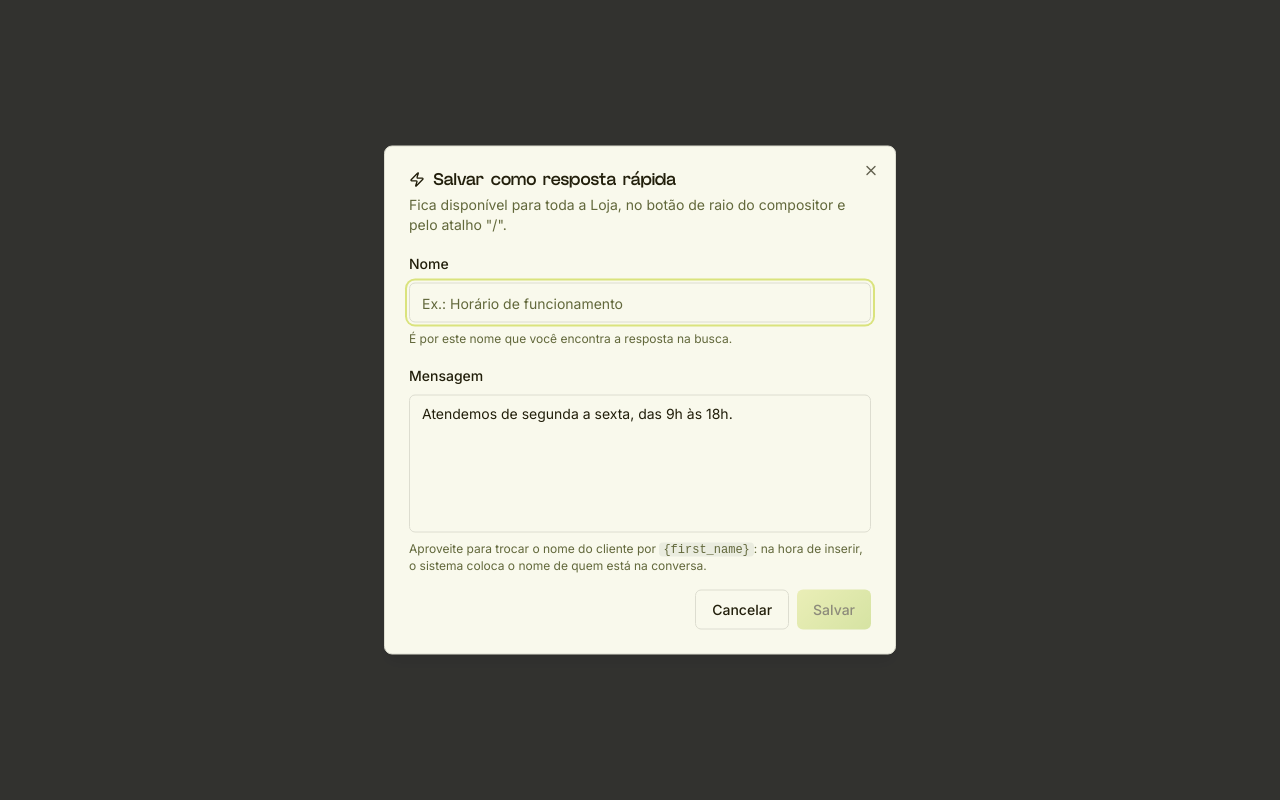
salvar › não salva com o corpo vazio
The width and height of the screenshot is (1280, 800).
Step 1. Type "Horário" into the field labelled "Nome" → (640, 302), box left=409, top=282, right=871, bottom=322
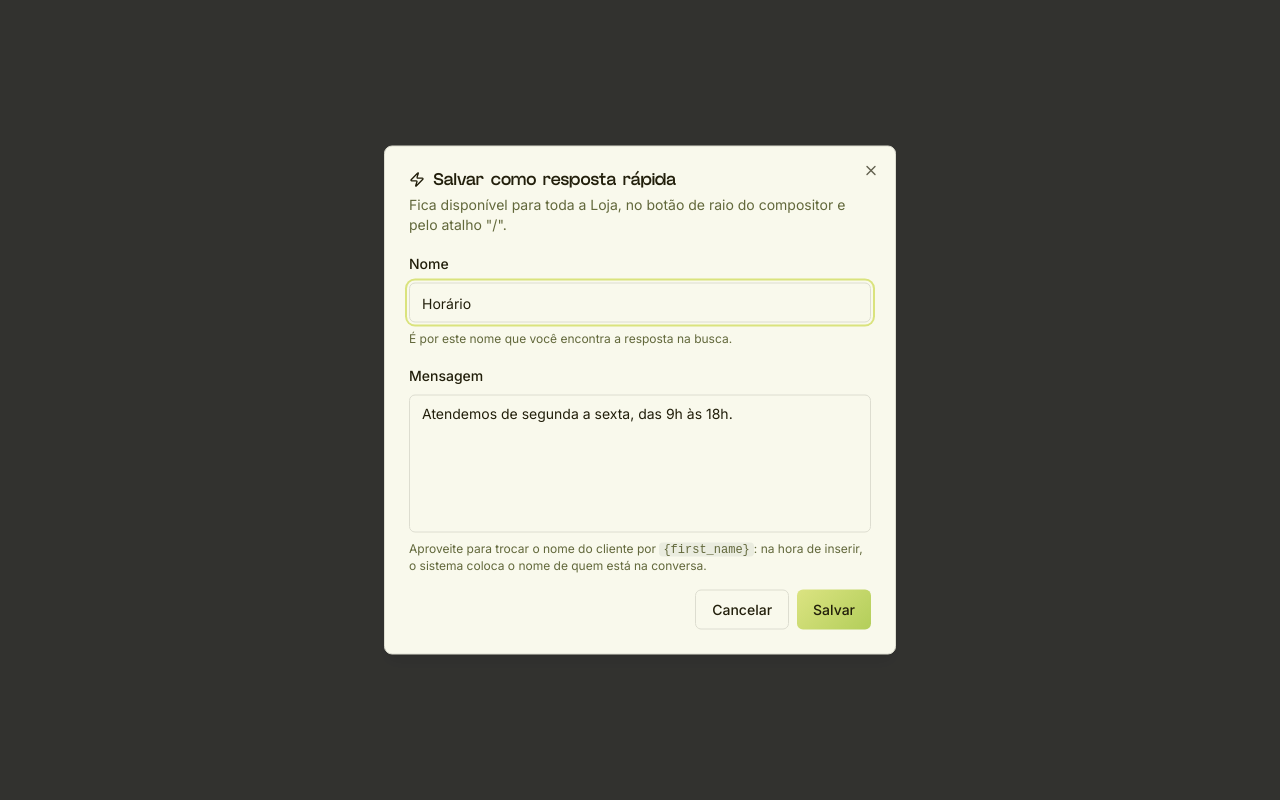
Step 2. Clear the text box labelled "Mensagem" → (640, 464), box left=409, top=394, right=871, bottom=532
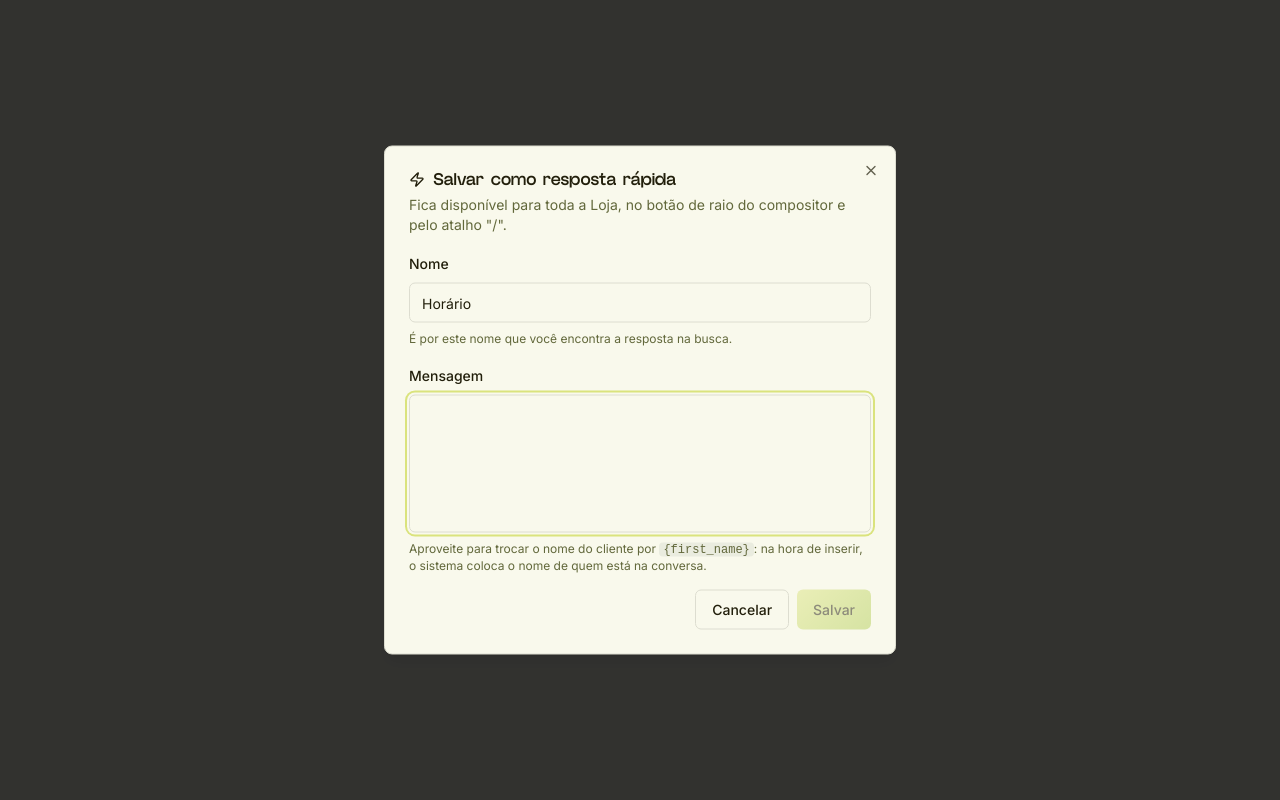
Result: the button "Salvar" is disabled at left=797, top=590, right=871, bottom=630
